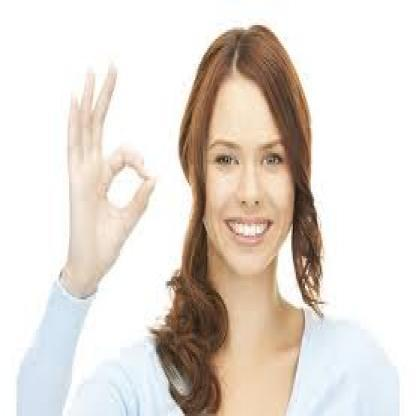ok: (62, 57, 162, 286)
